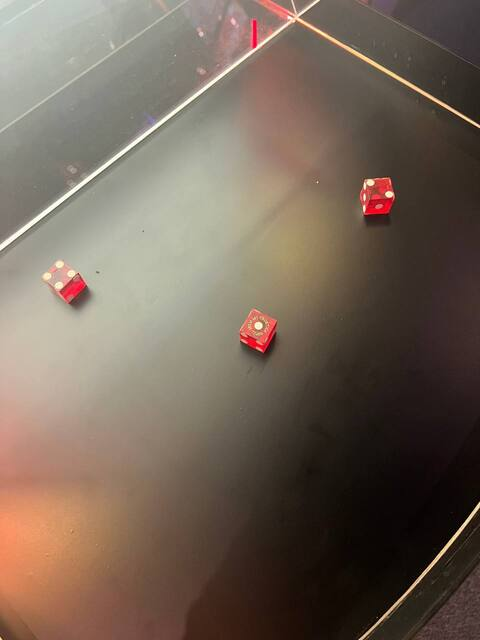four: (39, 257, 80, 294)
one: (240, 305, 281, 340)
two: (362, 174, 397, 203)
